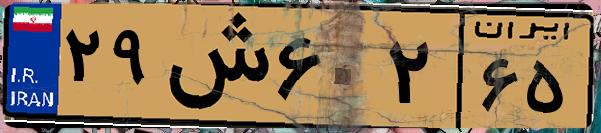0: (330, 28, 385, 110)
2: (385, 28, 445, 110), (57, 26, 110, 100)
5: (525, 38, 570, 115)
6: (270, 28, 330, 110), (475, 38, 525, 113)
9: (110, 28, 158, 98)
ش: (158, 12, 270, 120)
